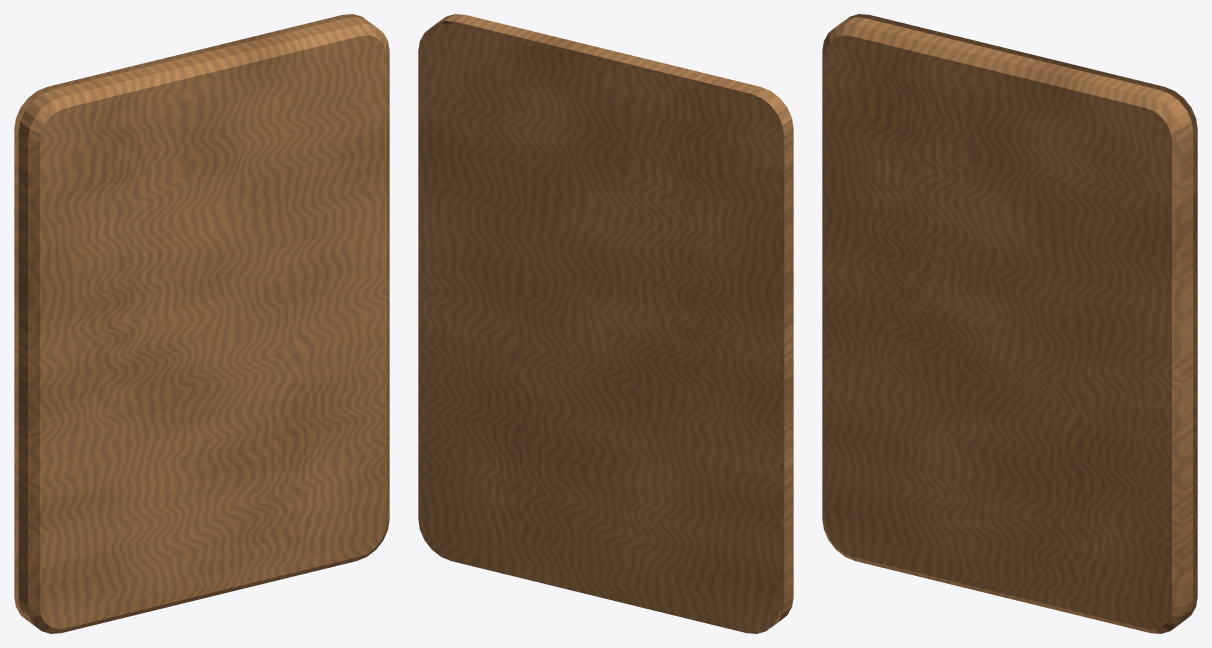
Rendered from Board_Base_Oak.obj.
3 renders of one model, left to right at view 1: azimuth 30°, elevation 25°; view 2: azimuth 150°, elevation 25°; view 3: azimuth 330°, elevation 25°, orthographic.
Parts seen in each view (by area): view 1: Board_Base_Oak; view 2: Board_Base_Oak; view 3: Board_Base_Oak.
Part boxes in pixels (x1,y1,x2,y2): Board_Base_Oak: (14,14,389,633); Board_Base_Oak: (418,14,793,633); Board_Base_Oak: (822,14,1197,633).
Bounding box in the file's own units: 4.8 × 6.8 × 0.42.
1 material, 1 textured.
